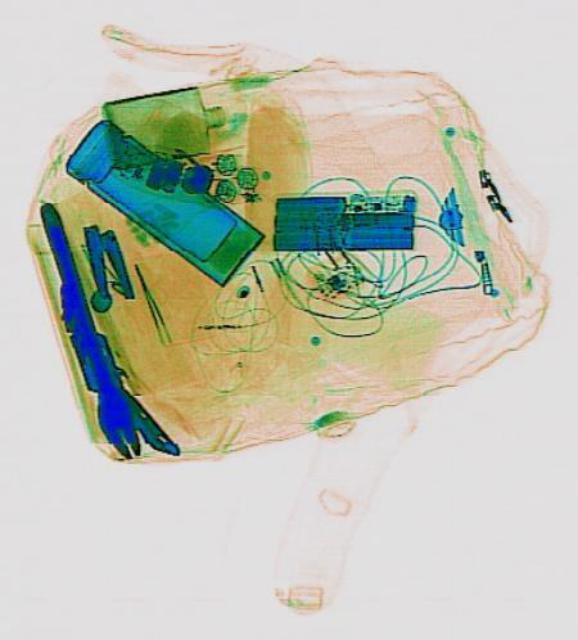Wrench: (22, 197, 143, 463)
